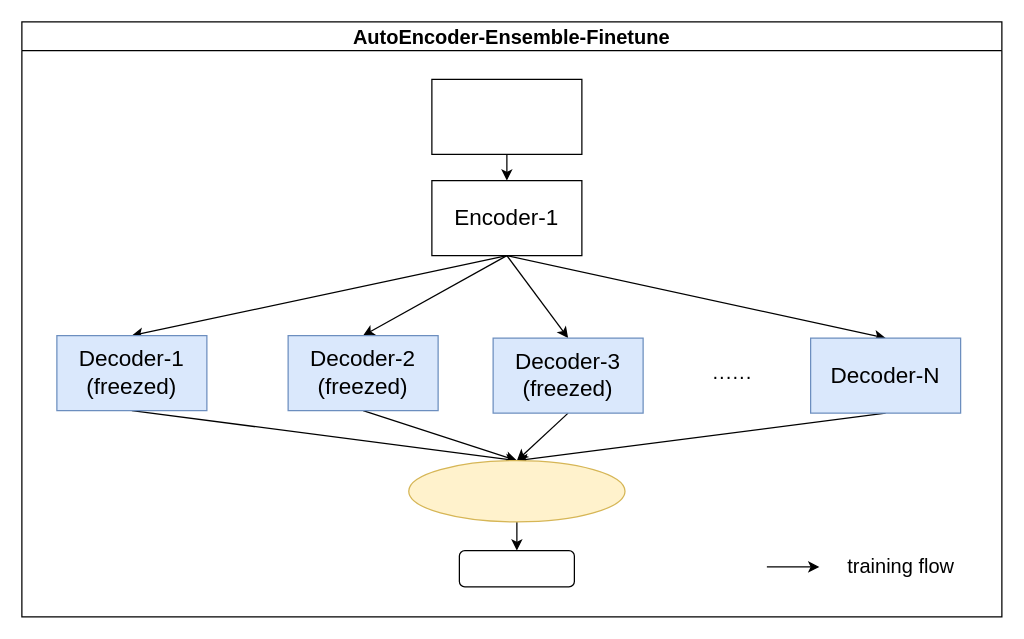
Image size: 1024x639. Some labels were removed from this diagram. Each missing label, with the centre of its shape:
"ElementwiseMean" goes at point (516, 490).
"online-data" goes at point (506, 116).
"Output" goes at point (516, 568).
